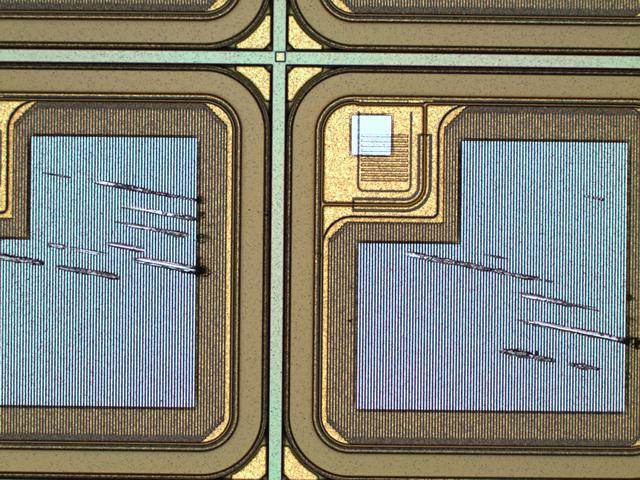SCRATCH: (1, 165, 640, 383)
